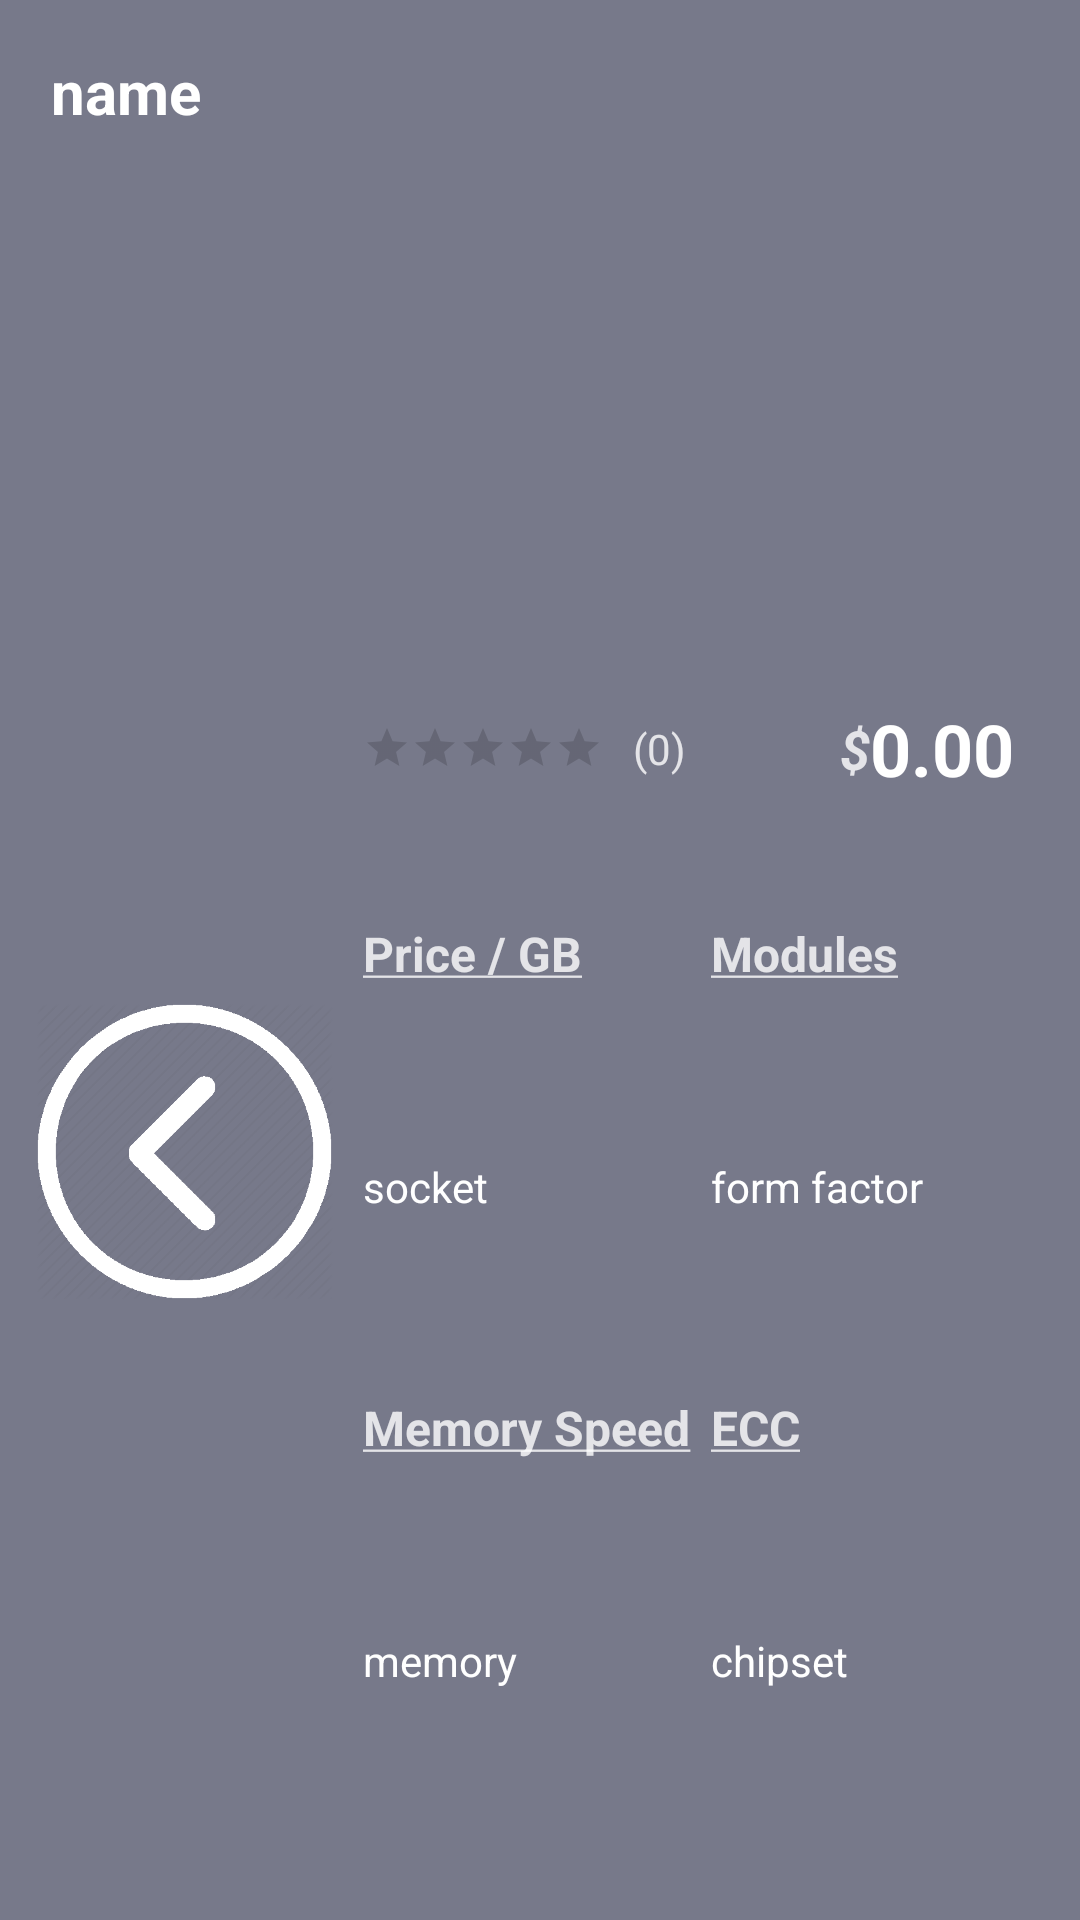

Screen size 1080 x 1920. Icon name, then its box in pixels as [left=x1, top=y1, right=x2, bottom=y2]:
back: [left=38, top=1005, right=331, bottom=1298]
